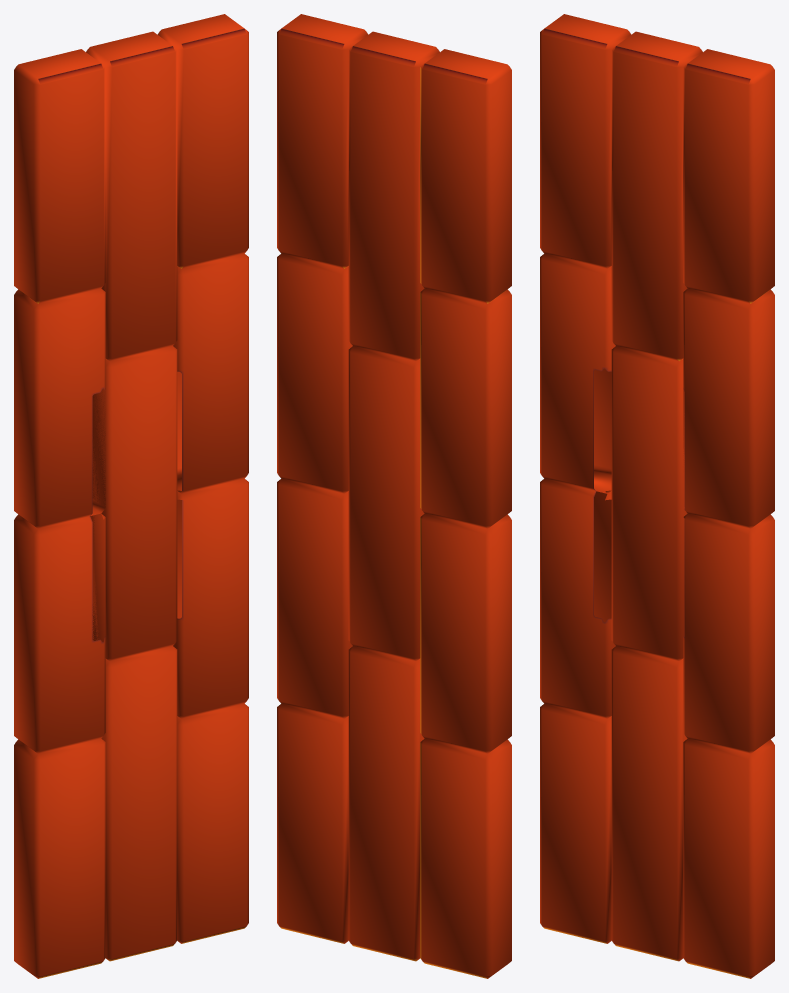
The model's file is door_left_LOD0.fbx.
3 renders of one model, left to right at view 1: azimuth 30°, elevation 25°; view 2: azimuth 150°, elevation 25°; view 3: azimuth 330°, elevation 25°, orthographic.
Parts seen in each view (by area): view 1: door_left_LOD0; view 2: door_left_LOD0; view 3: door_left_LOD0.
Part boxes in pixels (x1=…): door_left_LOD0: x1=14, y1=14, x2=248, y2=978; door_left_LOD0: x1=277, y1=14, x2=511, y2=978; door_left_LOD0: x1=540, y1=14, x2=774, y2=978.
Bounding box in the file's own units: 100 × 400 × 19.94.
